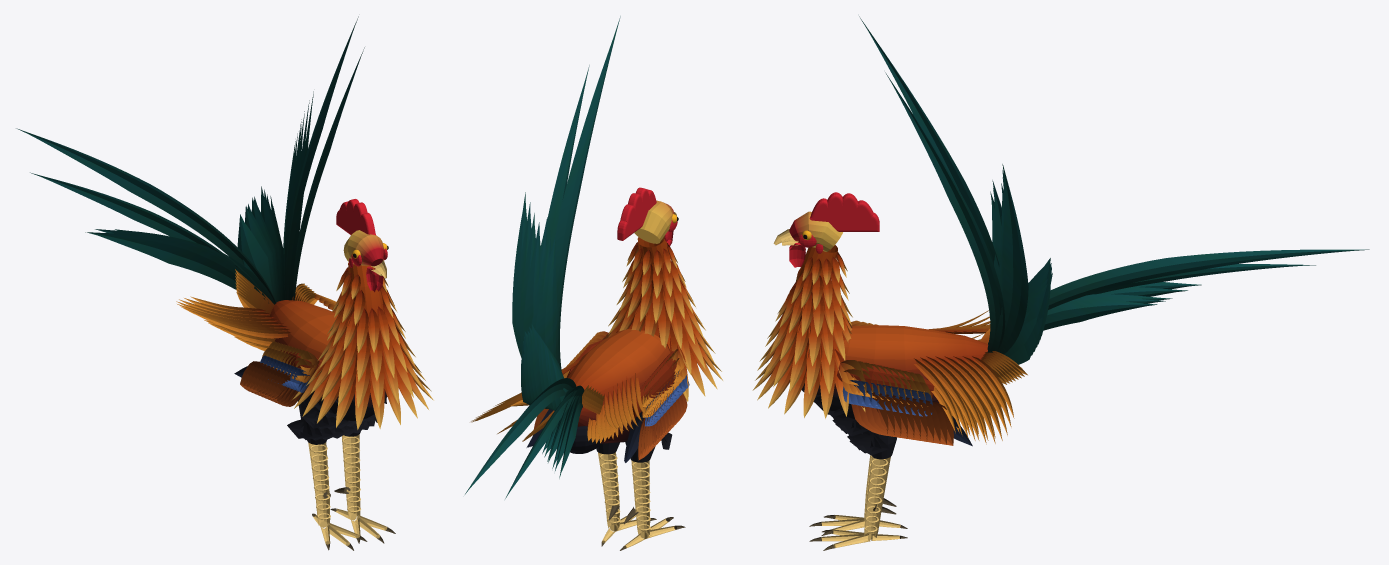
Rendered from rooster_gamefowl.glb.
3 renders of one model, left to right at view 1: azimuth 30°, elevation 25°; view 2: azimuth 150°, elevation 25°; view 3: azimuth 270°, elevation 25°, orthographic. The views are drawn at different scales.
Parts seen in each view (by area): view 1: Feathers, Leg, Skin; view 2: Feathers, Leg, Skin; view 3: Feathers, Leg, Skin.
Boxes of the visible parts, bbox=[...] form: Feathers: bbox=[16, 16, 433, 444]; Leg: bbox=[308, 434, 387, 545]; Skin: bbox=[336, 199, 387, 292]; Feathers: bbox=[465, 16, 722, 498]; Leg: bbox=[598, 452, 675, 548]; Skin: bbox=[617, 187, 677, 245]; Feathers: bbox=[752, 16, 1369, 459]; Leg: bbox=[821, 455, 900, 547]; Skin: bbox=[789, 192, 879, 267].
Bounding box in the file's own units: 2.22 × 5.68 × 6.08.
